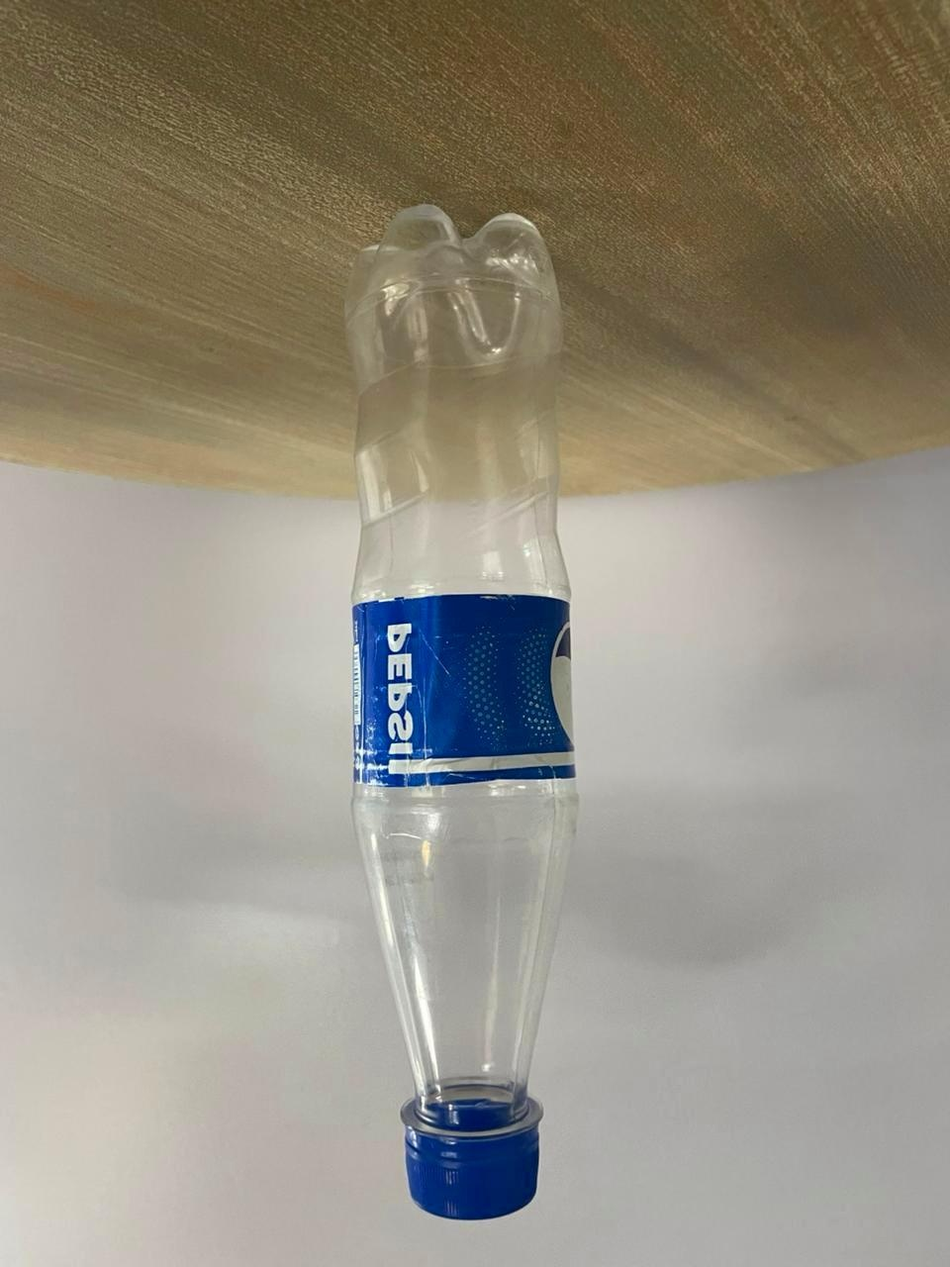Pepsi Bottle: (344, 168, 588, 1242), (346, 190, 584, 1234)
